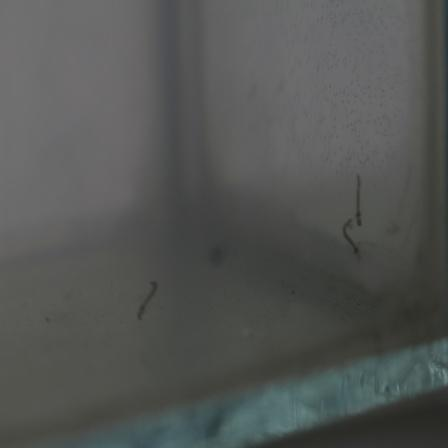Jentik-Nyamuk: (134, 277, 159, 322), (352, 171, 371, 228)
